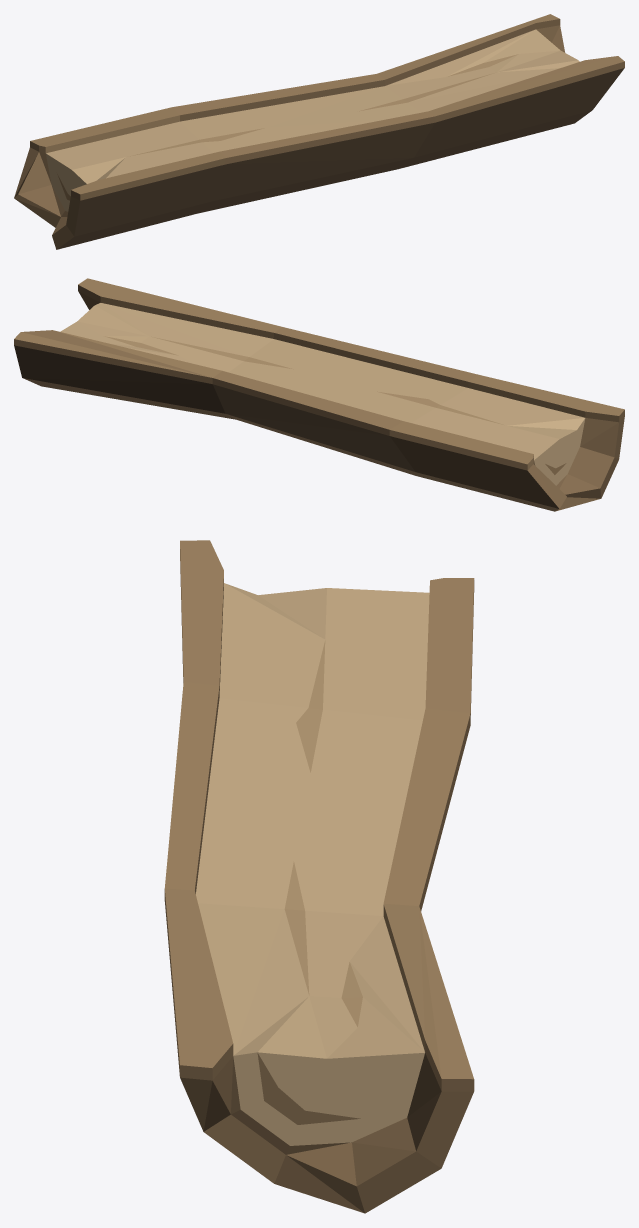
File: SM_Prop_Loghalf_02.fbx
3 views of the same model, one above another, from view 1: azimuth 30°, elevation 25°; view 2: azimuth 150°, elevation 25°; view 3: azimuth 270°, elevation 25° (orthographic). The views are drawn at different scales.
Parts seen in each view (by area): view 1: SM_Prop_Loghalf_02; view 2: SM_Prop_Loghalf_02; view 3: SM_Prop_Loghalf_02.
Part boxes in pixels (x1=…): SM_Prop_Loghalf_02: x1=14, y1=14, x2=624, y2=249; SM_Prop_Loghalf_02: x1=14, y1=278, x2=624, y2=511; SM_Prop_Loghalf_02: x1=164, y1=540, x2=474, y2=1213.
Size of the model in its own units: 0.0257 by 0.00338 by 0.00638.
Materials: 1 (1 with a texture image).
